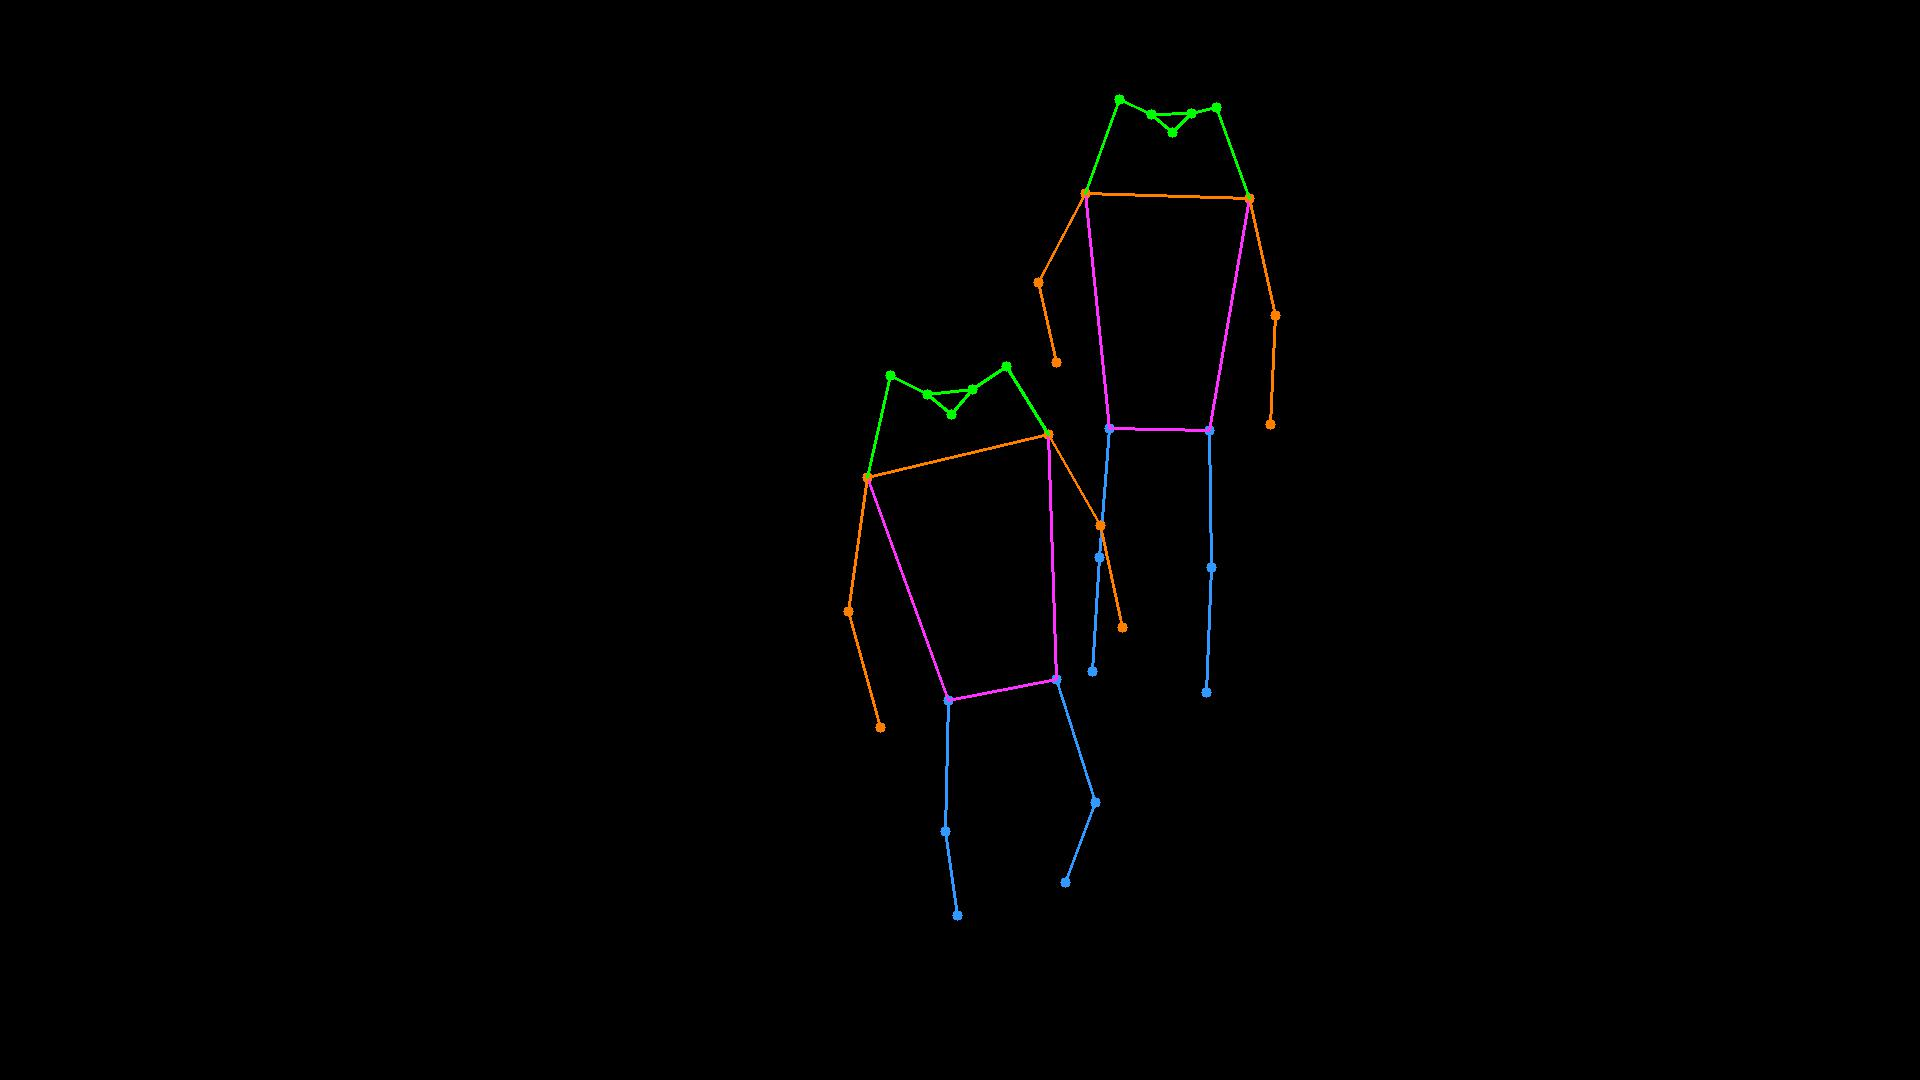normal: (723, 58, 1374, 969)
